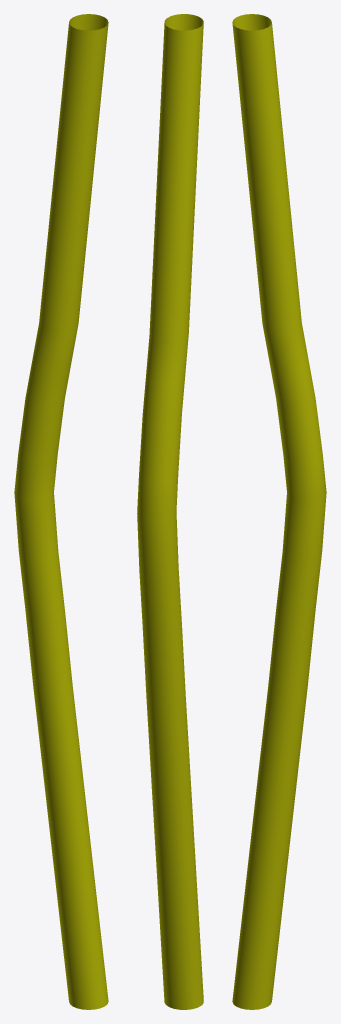
File: Barrote 2.fbx
The picture shows the model from 3 angles, left to right: view 1: azimuth 90°, elevation 25°; view 2: azimuth 150°, elevation 25°; view 3: azimuth 270°, elevation 25°; orthographic projection.
Parts seen in each view (by area): view 1: Barrote1; view 2: Barrote1; view 3: Barrote1.
Part boxes in pixels (x1,y1,x2,y2): Barrote1: [14, 14, 108, 1009]; Barrote1: [137, 14, 203, 1009]; Barrote1: [232, 14, 326, 1009].
Size of the model in its own units: 0.2583 by 7.05 by 0.6147.
